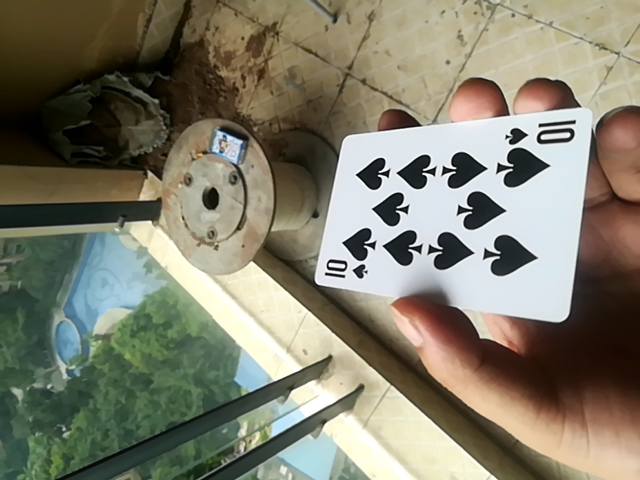ht 10: (310, 101, 592, 322)
